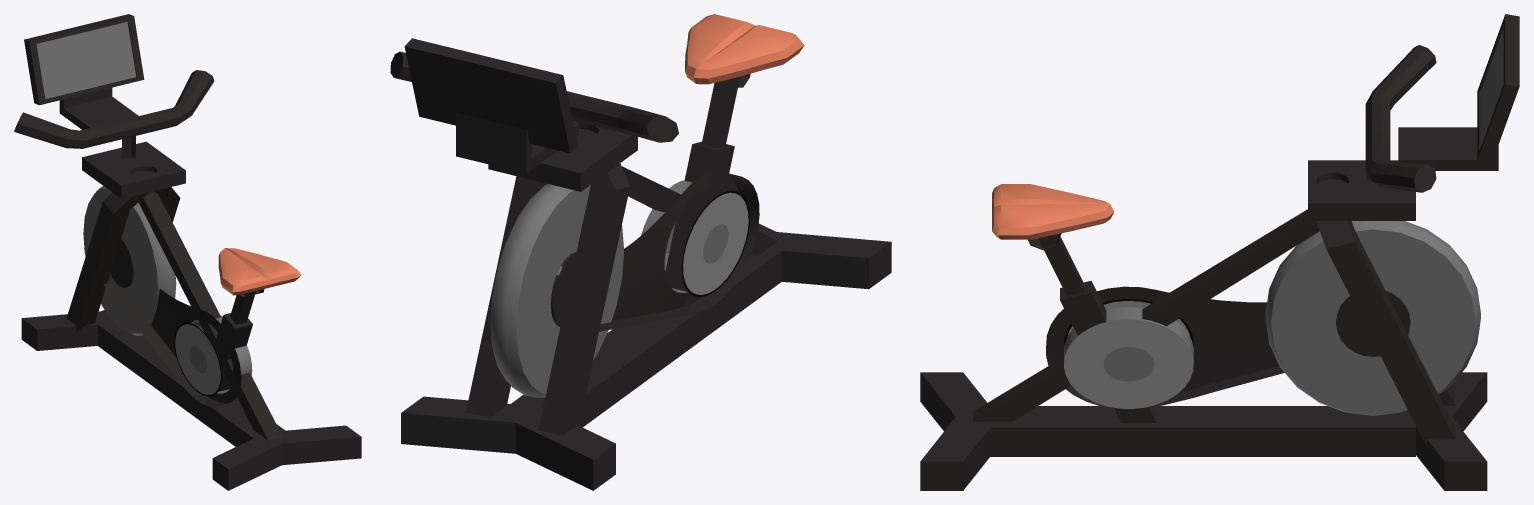
The model's file is exerciseBike.fbx.
3 views of the same model, side by side, from view 1: azimuth 30°, elevation 25°; view 2: azimuth 150°, elevation 25°; view 3: azimuth 270°, elevation 25° (orthographic). The views are drawn at different scales.
Visible parts, largest first — view 1: Exercise Bike, Exercise Bike Wheel; view 2: Exercise Bike, Exercise Bike Wheel; view 3: Exercise Bike, Exercise Bike Wheel.
Boxes of the visible parts, left/top/right/bottom form: Exercise Bike: left=14, top=14, right=361, bottom=490; Exercise Bike Wheel: left=83, top=186, right=176, bottom=335; Exercise Bike: left=390, top=14, right=891, bottom=490; Exercise Bike Wheel: left=490, top=184, right=623, bottom=397; Exercise Bike: left=920, top=14, right=1519, bottom=490; Exercise Bike Wheel: left=1265, top=221, right=1480, bottom=415.
Size of the model in its own units: 73.99 by 140 by 102.
